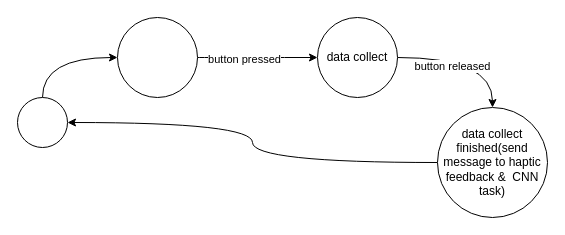
Some shapes in this 565 by 235 pixel diagram are drawn without their labels. The box of each missing label's shape, as (x1, y1, x2, y2) in pixels:
idle: (116, 16, 198, 98)
start: (16, 96, 68, 148)
